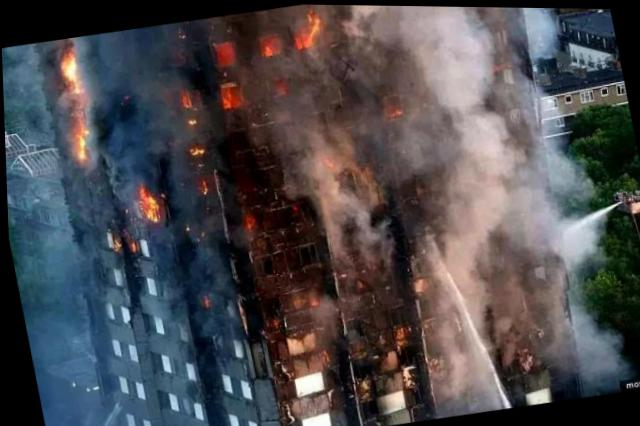fire: (216, 40, 240, 66), (59, 47, 79, 77), (260, 33, 285, 54), (223, 82, 244, 106), (142, 195, 160, 221), (73, 135, 90, 161), (294, 30, 316, 48), (75, 112, 90, 135), (310, 14, 322, 30), (69, 75, 81, 91), (136, 182, 148, 197), (188, 145, 204, 154)
